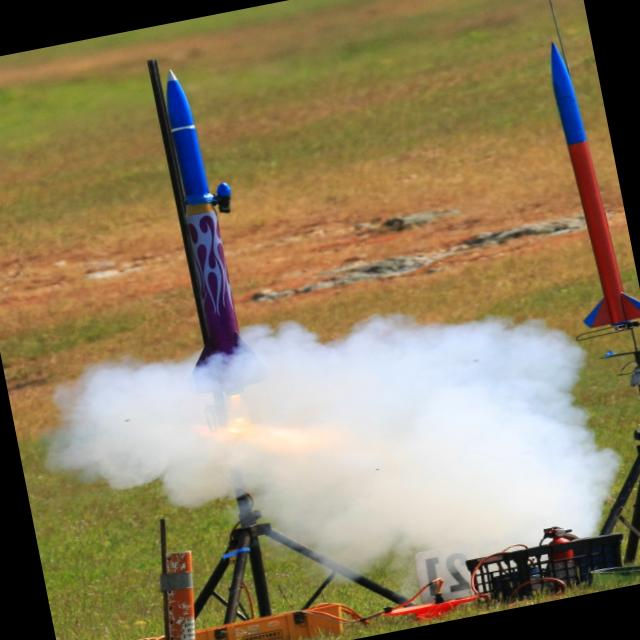rocket: (122, 65, 265, 403), (526, 31, 640, 358)
